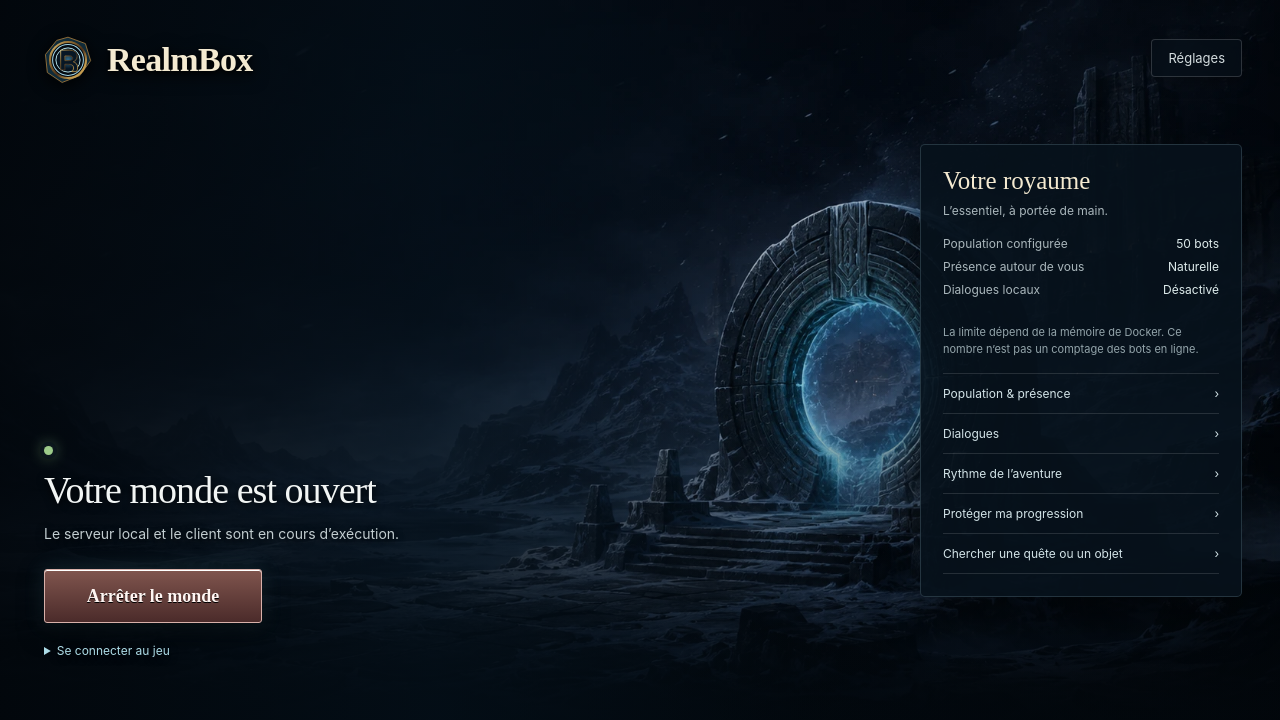
Test: RealmBox launcher › blocks solo changes during gameplay and offers an explicit stop
The width and height of the screenshot is (1280, 720).
Step 1. Click the button "Réglages" → [1197, 58], box [1151,39,1242,77]
(page scrolled)
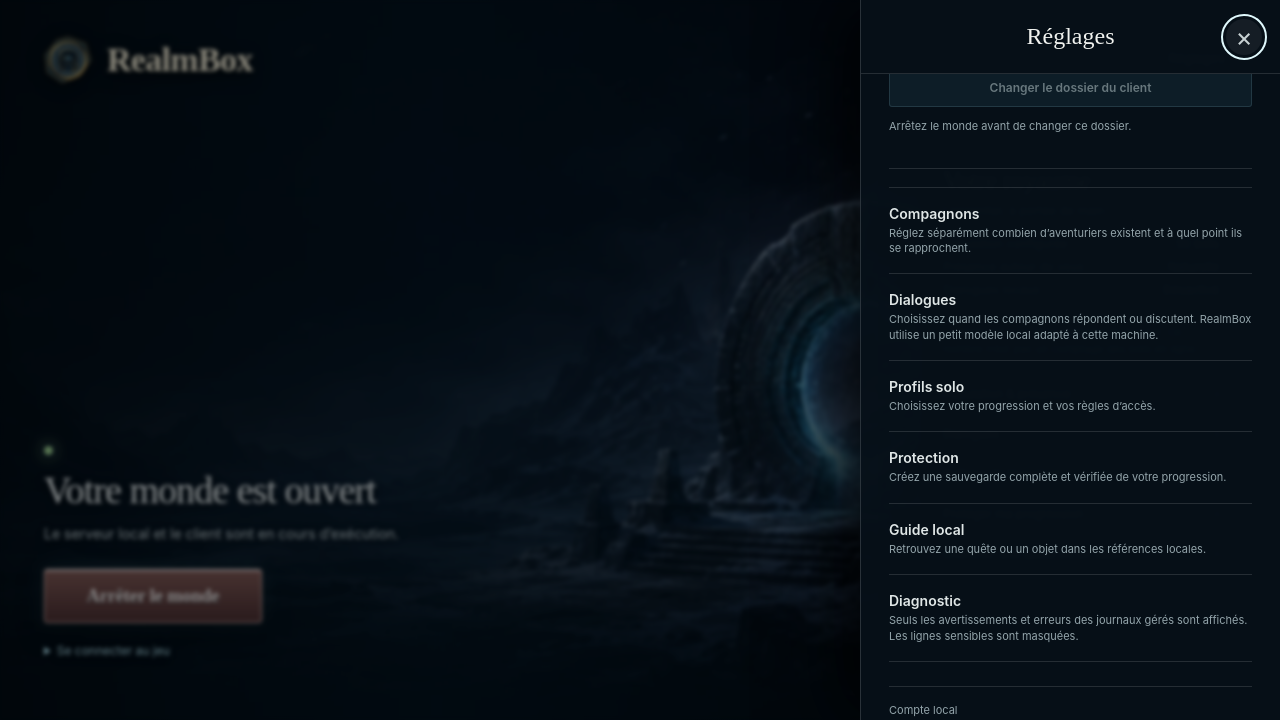
Step 2. Click the button "Profils solo" → [1070, 397], box [889,361,1252,432]
(page scrolled)
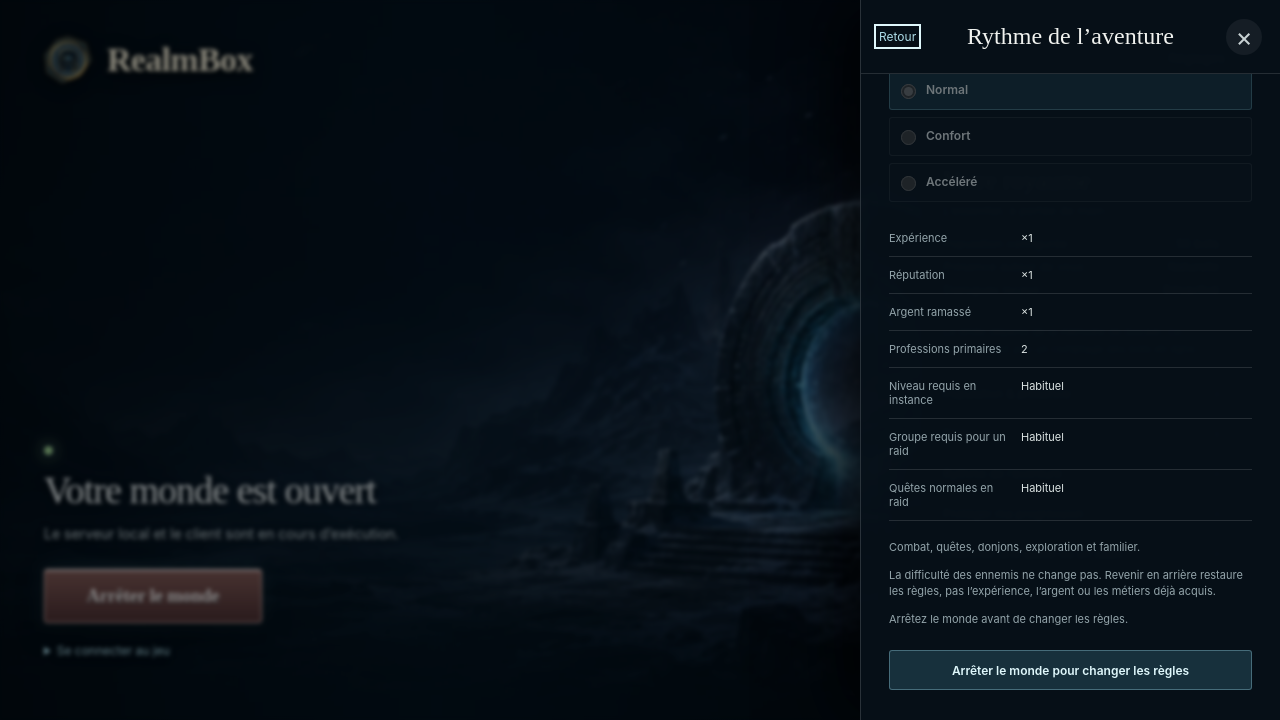
Expected: the button "appliquer ce profil" is not shown
Expected: the radio button labelled "Confort" is disabled, [901,130,916,145]
Step 3. Click the button "Arrêter le monde pour changer les règles" → [1070, 670], box [889,650,1252,690]
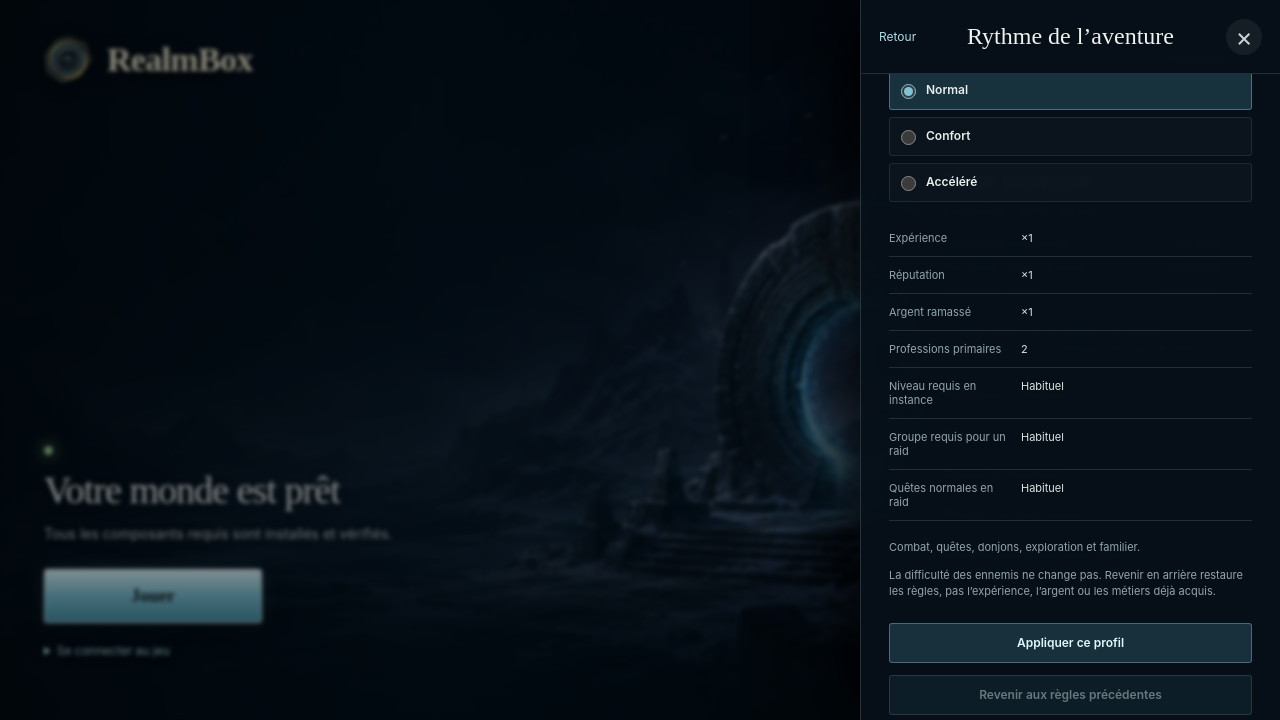
Expected: the button "Appliquer ce profil" is enabled, [889,623,1252,663]
